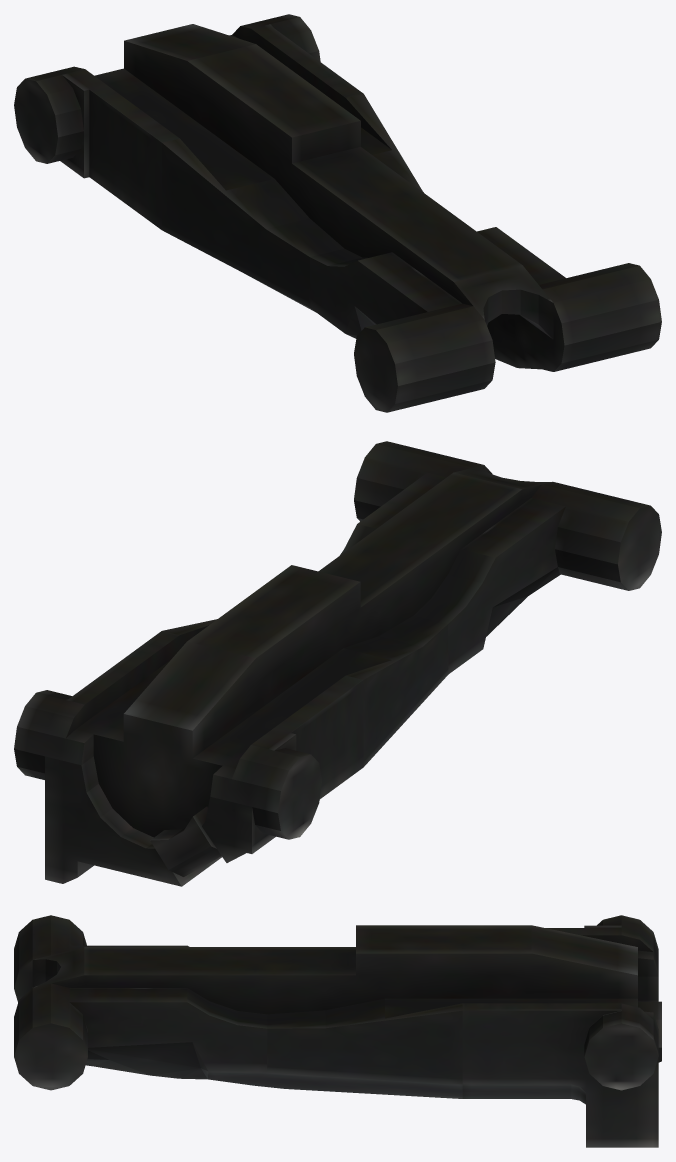
3 renders of one model, top to bottom at view 1: azimuth 30°, elevation 25°; view 2: azimuth 150°, elevation 25°; view 3: azimuth 270°, elevation 25°, orthographic. The views are drawn at different scales.
Visible parts, largest first — view 1: TW_5fb64bc92b1b027b1f50bcf2_PZ_Import; view 2: TW_5fb64bc92b1b027b1f50bcf2_PZ_Import; view 3: TW_5fb64bc92b1b027b1f50bcf2_PZ_Import.
Part boxes in pixels (left/top/right/bottom): TW_5fb64bc92b1b027b1f50bcf2_PZ_Import: left=14, top=14, right=661, bottom=412; TW_5fb64bc92b1b027b1f50bcf2_PZ_Import: left=14, top=441, right=661, bottom=886; TW_5fb64bc92b1b027b1f50bcf2_PZ_Import: left=14, top=915, right=661, bottom=1147.
Bounding box in the file's own units: 0.0155 × 0.0393 × 0.0112.
1 material, 1 textured.
